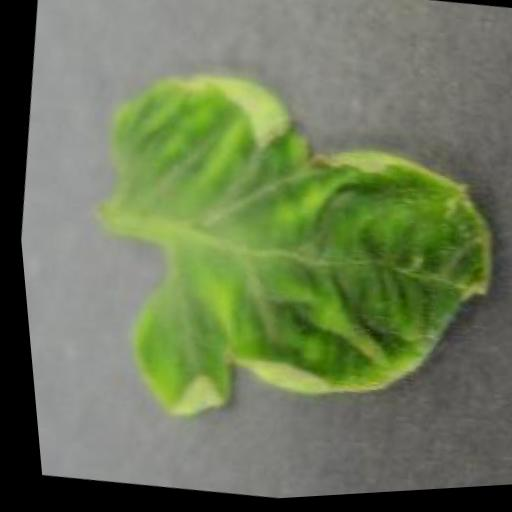Yellow Leaf Curl Virus: (54, 45, 512, 466)
